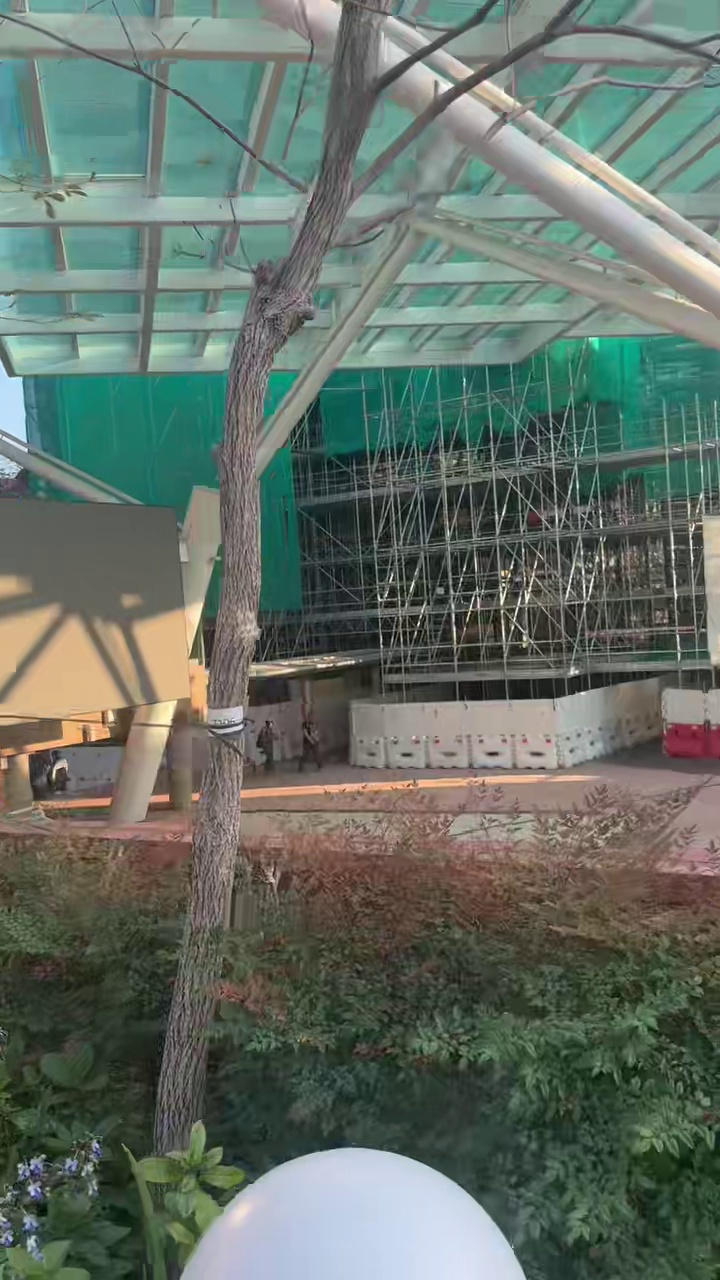Tabebuia chrysantha: (154, 0, 719, 1152)
